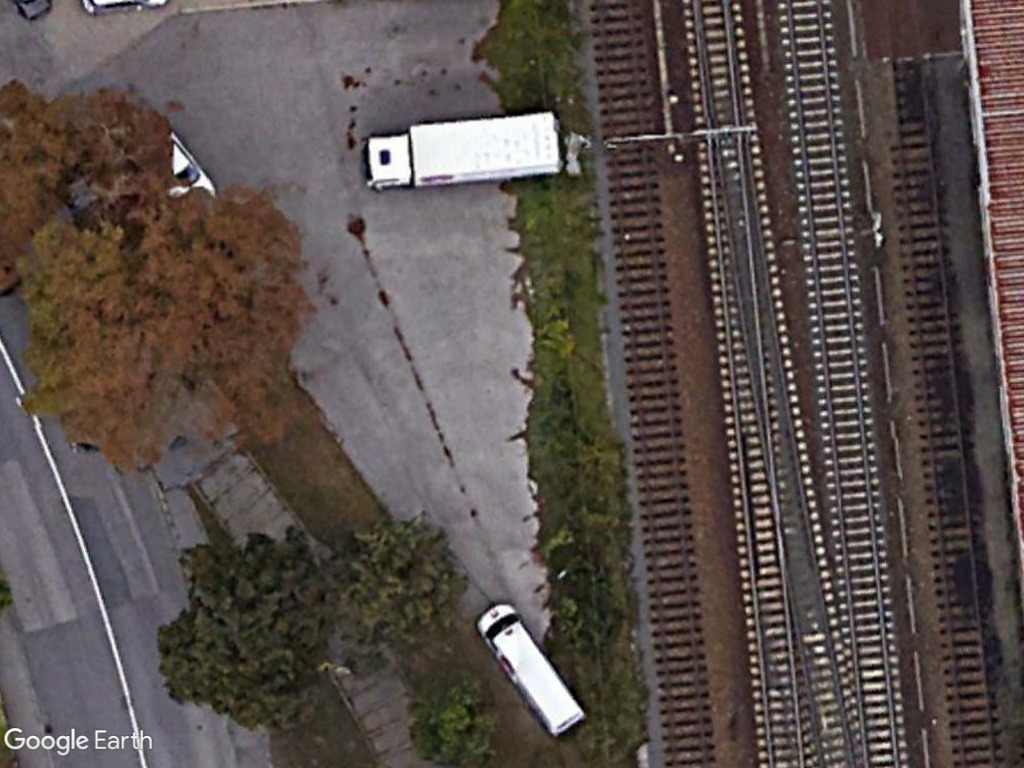truck: (360, 107, 563, 198)
van: (476, 598, 587, 740)
